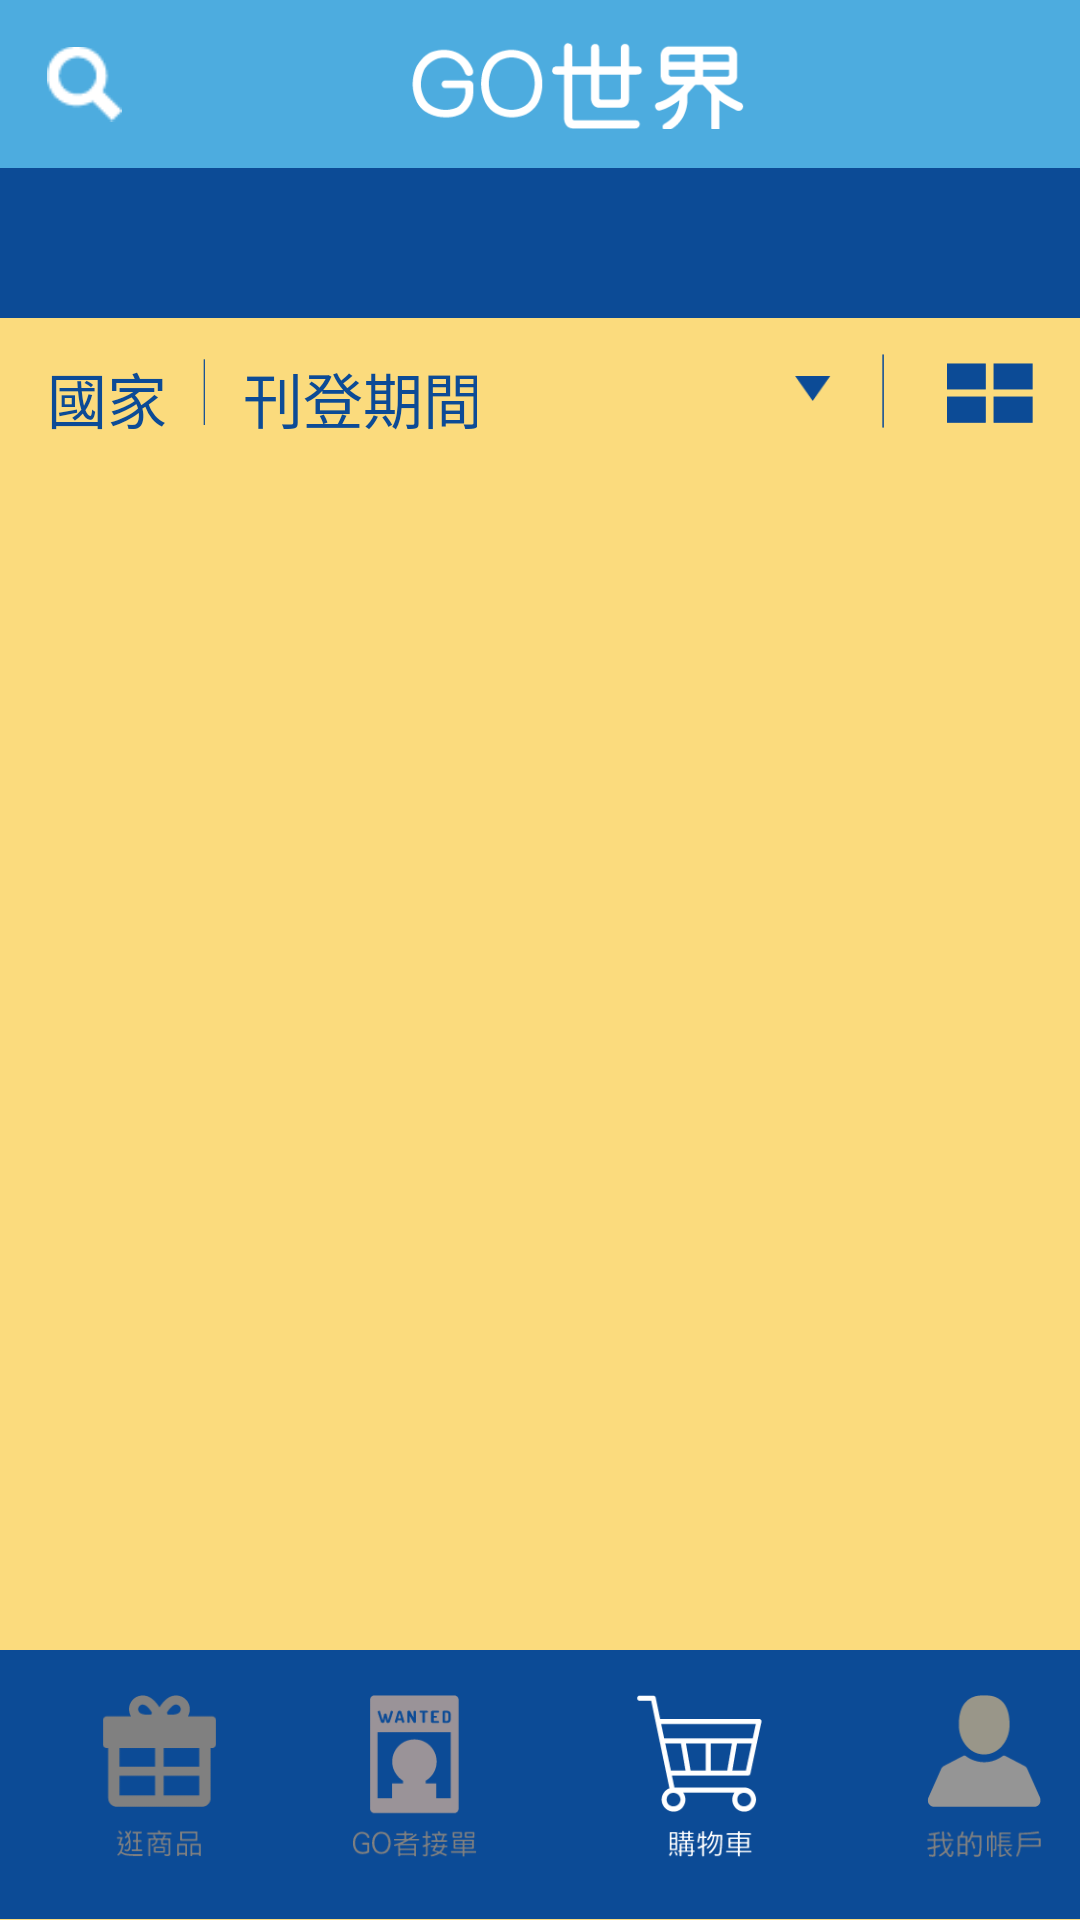

Screen size 1080 x 1920. Icon name, then its box in pixels as (x1, y1, x2, y2):
down: (795, 376, 831, 401)
grid: (947, 363, 1033, 423)
search: (47, 47, 122, 122)
